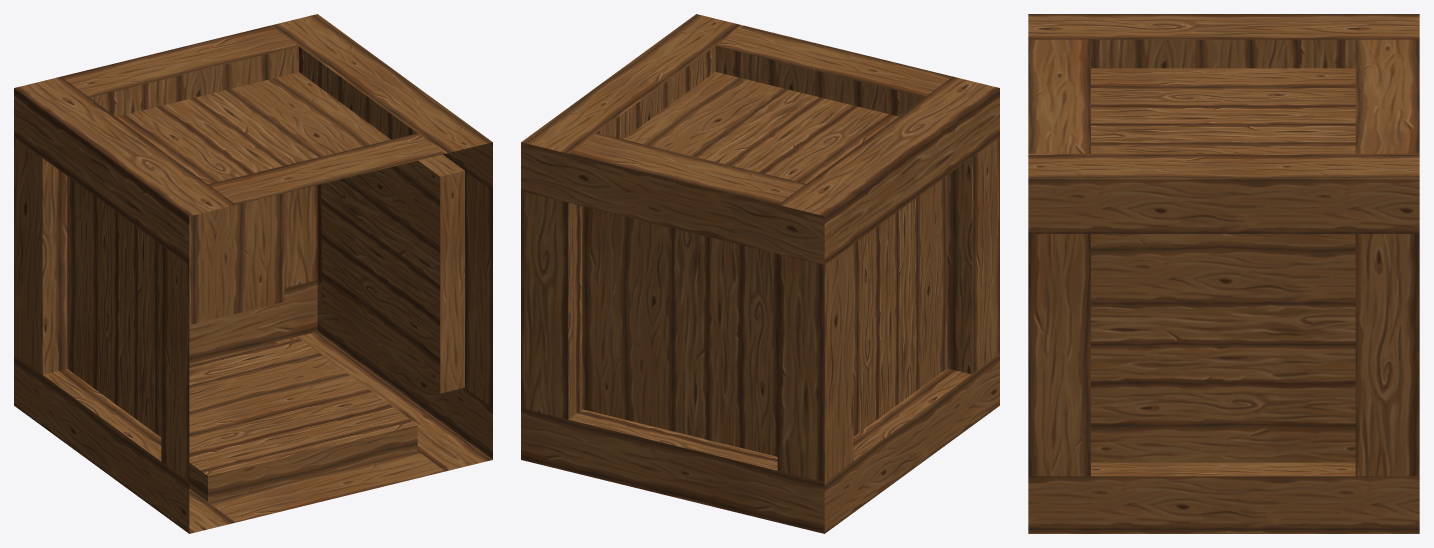
The picture shows the model from 3 angles, left to right: view 1: azimuth 30°, elevation 25°; view 2: azimuth 150°, elevation 25°; view 3: azimuth 270°, elevation 25°; orthographic projection. The views are drawn at different scales.
Parts seen in each view (by area): view 1: Cube.003; view 2: Cube.003; view 3: Cube.003.
Boxes of the visible parts, x1,y1,x2,y2 form: Cube.003: (14, 14, 492, 533); Cube.003: (521, 14, 999, 533); Cube.003: (1028, 14, 1419, 533).
Size of the model in its own units: 82.04 by 82.04 by 82.04.
